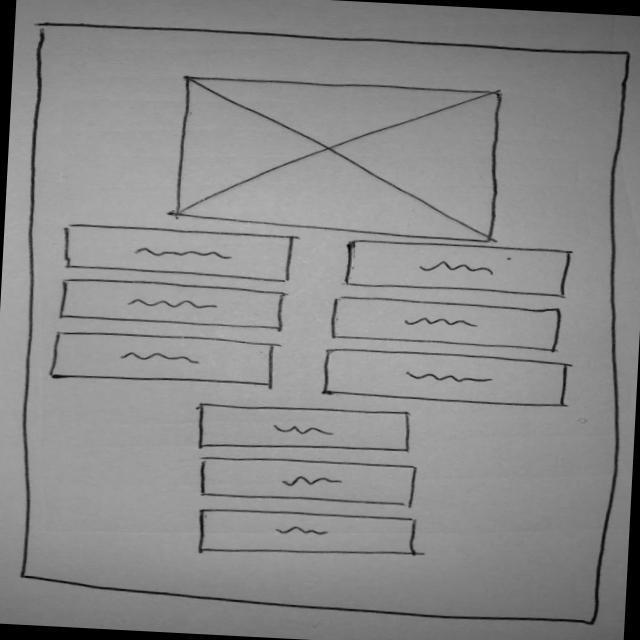container: (1, 14, 640, 633)
image: (173, 70, 517, 245)
input: (47, 324, 290, 396), (317, 346, 578, 412), (328, 292, 572, 357), (58, 224, 300, 288), (189, 399, 428, 463), (189, 505, 433, 567), (193, 453, 428, 514), (344, 239, 577, 300), (52, 276, 301, 333)
